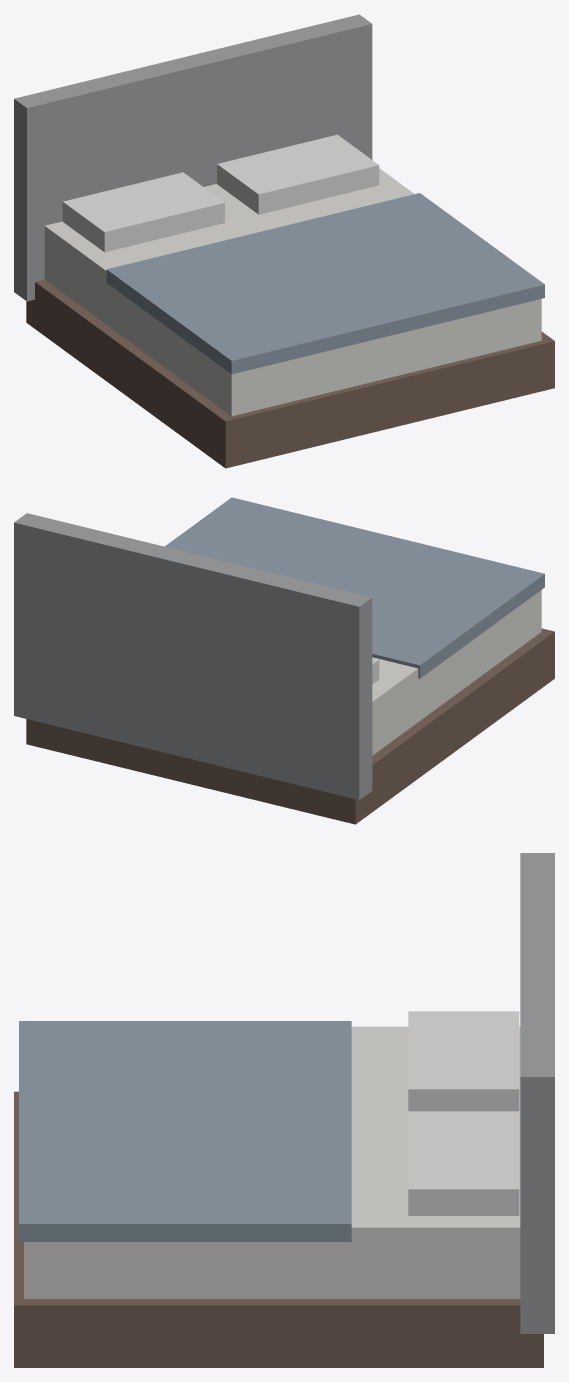
Rendered from bed_modern_king.glb.
The picture shows the model from 3 angles, top to bottom: view 1: azimuth 30°, elevation 25°; view 2: azimuth 150°, elevation 25°; view 3: azimuth 270°, elevation 25°; orthographic projection. The views are drawn at different scales.
Parts seen in each view (by area): view 1: geometry_2, geometry_5, geometry_1, geometry_0, geometry_3, geometry_4; view 2: geometry_2, geometry_5, geometry_0, geometry_1; view 3: geometry_5, geometry_1, geometry_0, geometry_2, geometry_4, geometry_3.
Boxes of the visible parts, box(x1,y1,x2,y2) form: geometry_2: box(14, 14, 372, 301); geometry_5: box(106, 193, 544, 374); geometry_1: box(44, 168, 541, 416); geometry_0: box(26, 279, 554, 468); geometry_3: box(62, 172, 224, 252); geometry_4: box(217, 134, 379, 214); geometry_2: box(14, 513, 372, 799); geometry_5: box(165, 497, 544, 678); geometry_0: box(26, 628, 554, 824); geometry_1: box(372, 590, 541, 755); geometry_5: box(19, 1021, 351, 1241); geometry_1: box(24, 1026, 520, 1298); geometry_0: box(14, 1091, 543, 1367); geometry_2: box(520, 853, 554, 1333); geometry_4: box(408, 1111, 519, 1215); geometry_3: box(408, 1011, 519, 1111).
Size of the model in its own units: 2.15 by 1.33 by 2.2.
